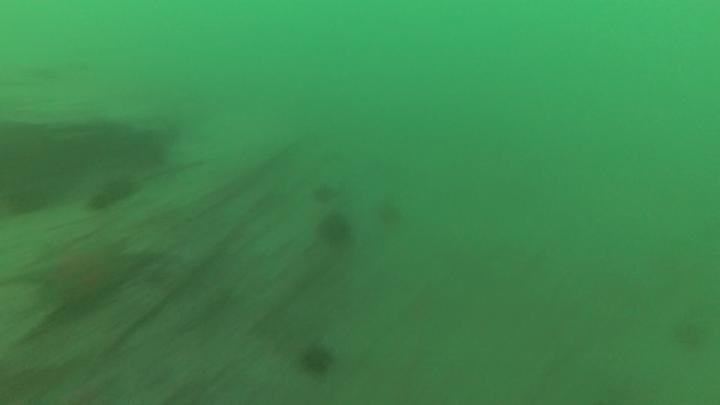echinus: (85, 175, 141, 213), (670, 313, 714, 356), (7, 181, 50, 219), (298, 343, 337, 381), (316, 211, 353, 251), (309, 181, 341, 208), (375, 198, 403, 227)
starfish: (7, 237, 164, 322)
